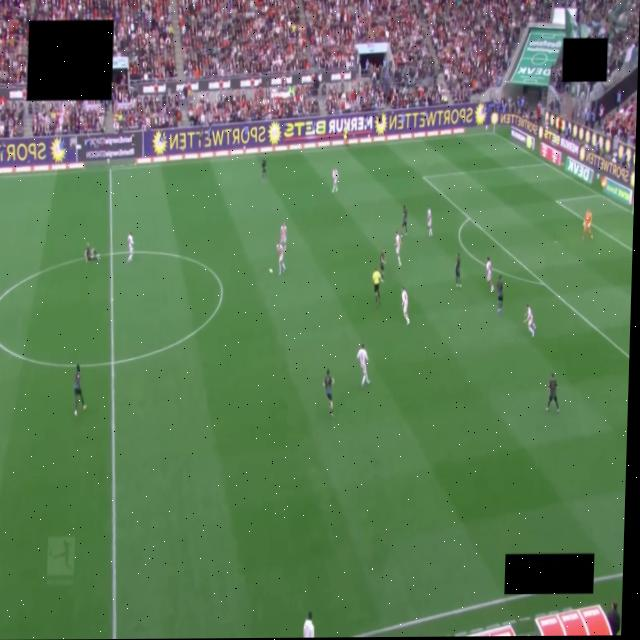ball: (269, 269, 272, 273)
player: (73, 364, 85, 416), (356, 344, 369, 387), (323, 369, 333, 416), (546, 374, 558, 411), (523, 304, 535, 337), (582, 210, 592, 239), (485, 257, 493, 291), (401, 287, 408, 324), (495, 276, 502, 313), (303, 613, 313, 637), (84, 244, 98, 261), (277, 244, 284, 275), (455, 253, 461, 288), (401, 205, 407, 236), (127, 231, 133, 262), (280, 223, 286, 253), (395, 232, 400, 267), (379, 249, 384, 281), (426, 206, 431, 236), (331, 169, 337, 193), (261, 159, 265, 179)
referee: (372, 269, 381, 307)
